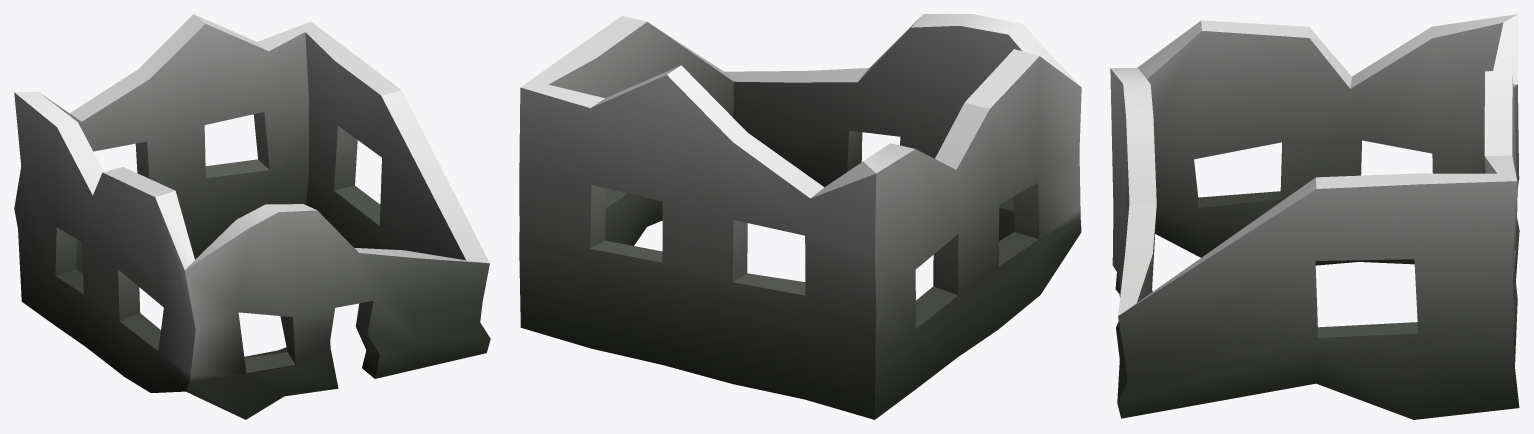
The model's file is Building_T06.fbx.
3 renders of one model, left to right at view 1: azimuth 30°, elevation 25°; view 2: azimuth 150°, elevation 25°; view 3: azimuth 270°, elevation 25°, orthographic. The views are drawn at different scales.
Visible parts, largest first — view 1: Building_T06; view 2: Building_T06; view 3: Building_T06.
Boxes of the visible parts, bbox=[...] form: Building_T06: bbox=[14, 14, 490, 419]; Building_T06: bbox=[519, 14, 1081, 419]; Building_T06: bbox=[1110, 14, 1519, 419].
Size of the model in its own units: 20.27 by 15.88 by 20.57.
